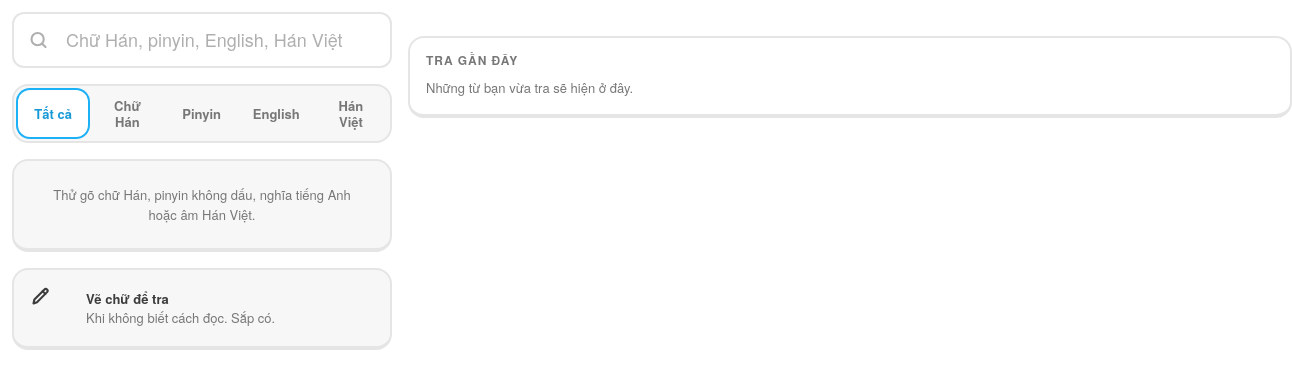
Test case: SearchScreen: trạng thái › đang tải có aria-busy; lỗi thì báo và cho thử lại
Type "hao" into the search field at coordinates (202, 40), box [12, 12, 392, 68]
Wait 250 ms
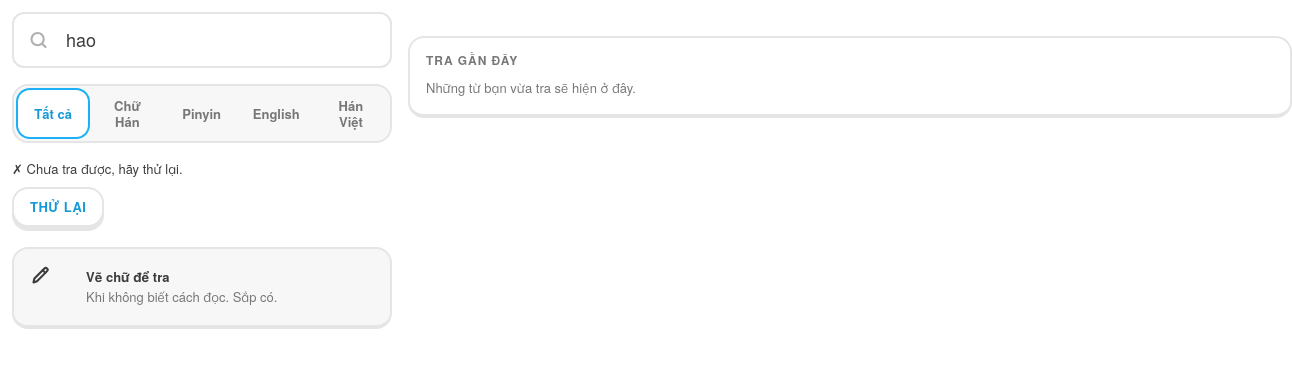
Check: the message shows "Chưa tra được", box [26, 159, 183, 178]
Click the button "Thử lại" at coordinates (58, 207), box [12, 187, 104, 227]
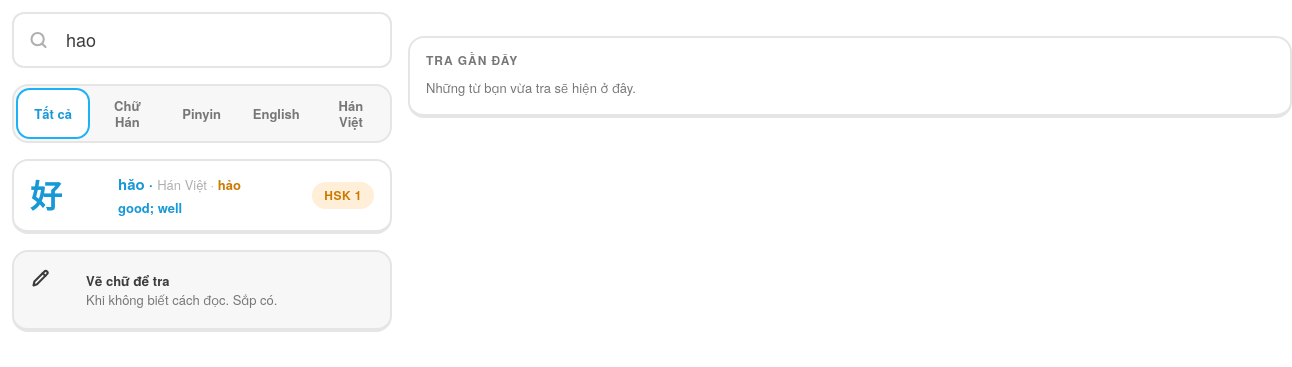
Check: the link "hǎo" is shown, box [12, 159, 392, 234]
Check: the message "✗ Chưa tra được, hãy thử lại." is gone
